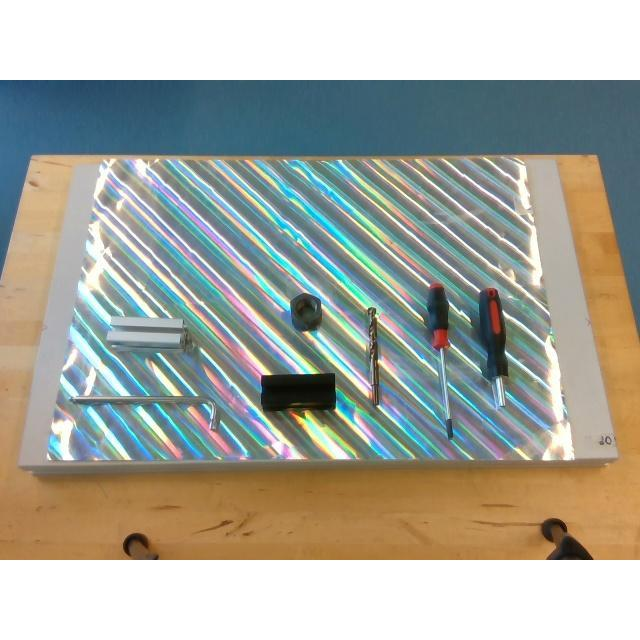AllenKey: (68, 394, 218, 434)
Drill: (364, 306, 380, 402)
M30: (289, 293, 321, 329)
S40_40_B: (260, 374, 336, 411)
S40_40_G: (106, 316, 186, 350)
